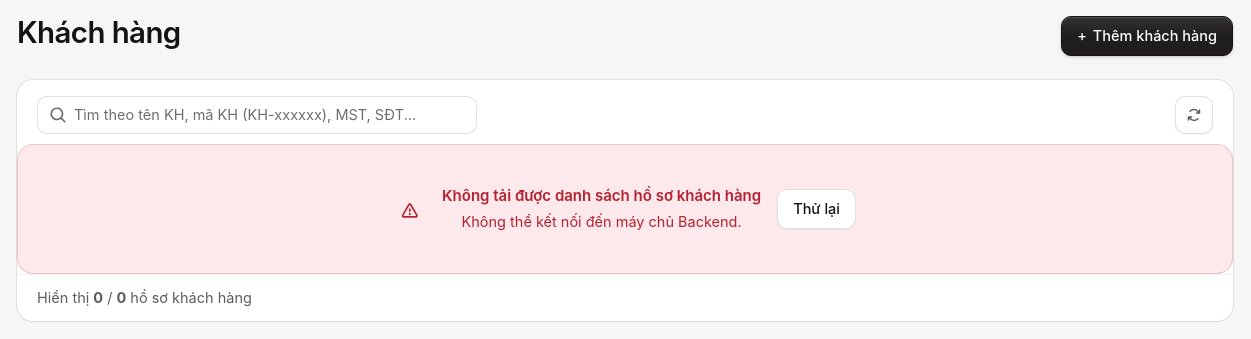
Scenario: CustomerListPage Component (NCL-02-CN-001-CV-05) › NCL-02-CN-001 (bước D/P): Tải danh sách hồ sơ khách hàng từ Backend › hiển thị trạng thái lỗi kèm nút "Thử lại" khi gọi API thất bại
Expected: the message with test id "customer-load-error" is shown, [17,144,1233,274]
Expected: the text "Không thể kết nối đến máy chủ Backend." is shown, [442,211,761,233]
Click the button "Thử lại": (817, 209) [777,189,856,229]
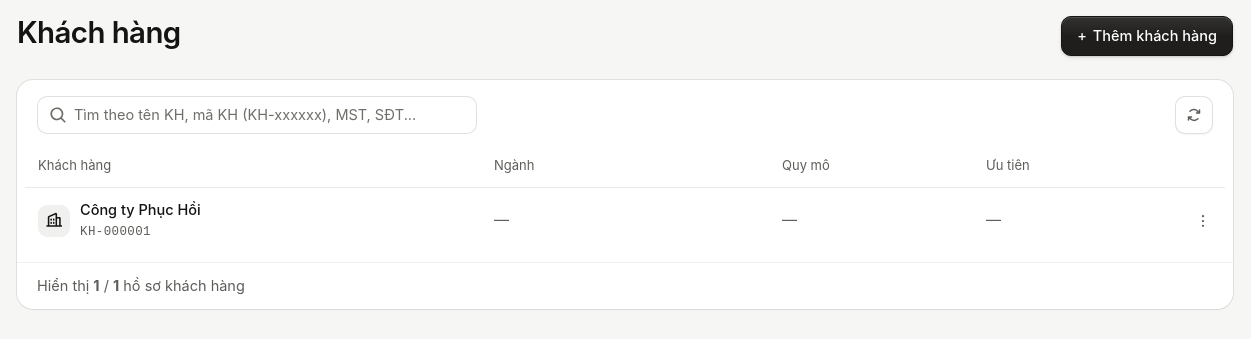
Now the message with test id "customer-load-error" is gone
Now the button "Công ty Phục Hồi" is shown, box [80,199,201,221]
